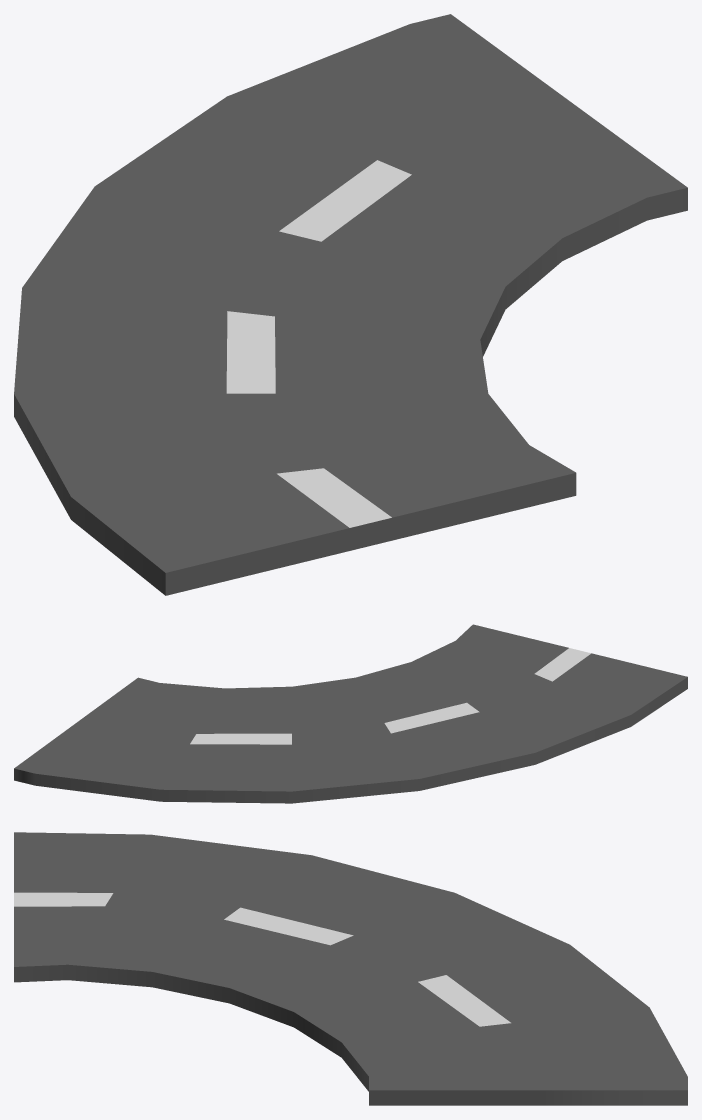
Rendered from RoadToRight.fbx.
3 renders of one model, top to bottom at view 1: azimuth 30°, elevation 25°; view 2: azimuth 150°, elevation 25°; view 3: azimuth 270°, elevation 25°, orthographic. The views are drawn at different scales.
Parts seen in each view (by area): view 1: RoadToRight; view 2: RoadToRight; view 3: RoadToRight.
Part boxes in pixels (x1=…): RoadToRight: x1=14, y1=14, x2=687, y2=595; RoadToRight: x1=14, y1=624, x2=687, y2=803; RoadToRight: x1=14, y1=832, x2=687, y2=1105.
Size of the model in its own units: 28.81 by 0.8039 by 31.81.
